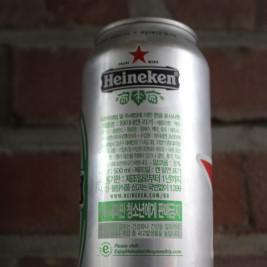beer: (78, 21, 221, 267)
